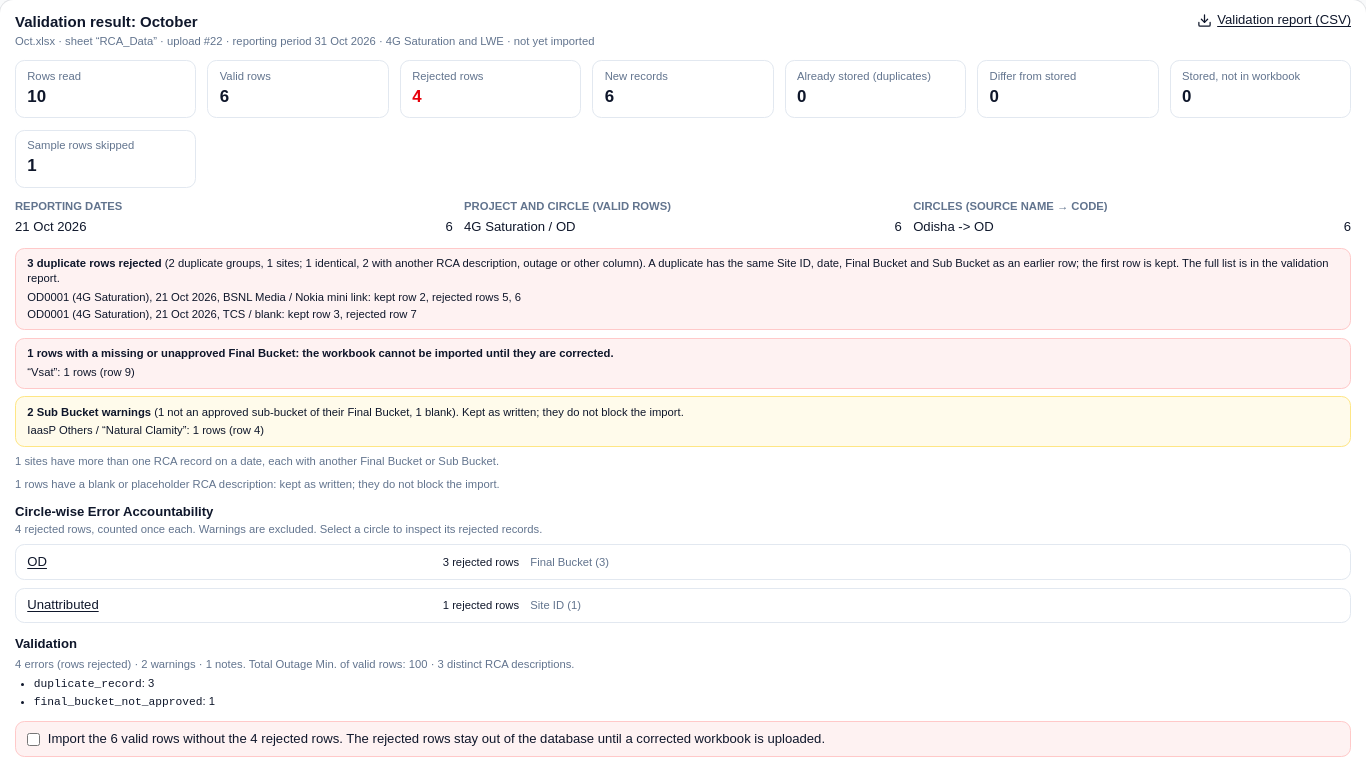
it: RcaImportPreview validation priorities › shows circle totals and opens exact rejected-row details without naming personnel
Check: the text "1" is shown, box [27,156,37,175]
Check: the element labelled "Circle-wise Error Accountability" shows "4 rejected rows, counted once each. Warnings are excluded.", box [15,503,1351,623]
Click the button "OD" at (37, 562), box [27,553,47,572]
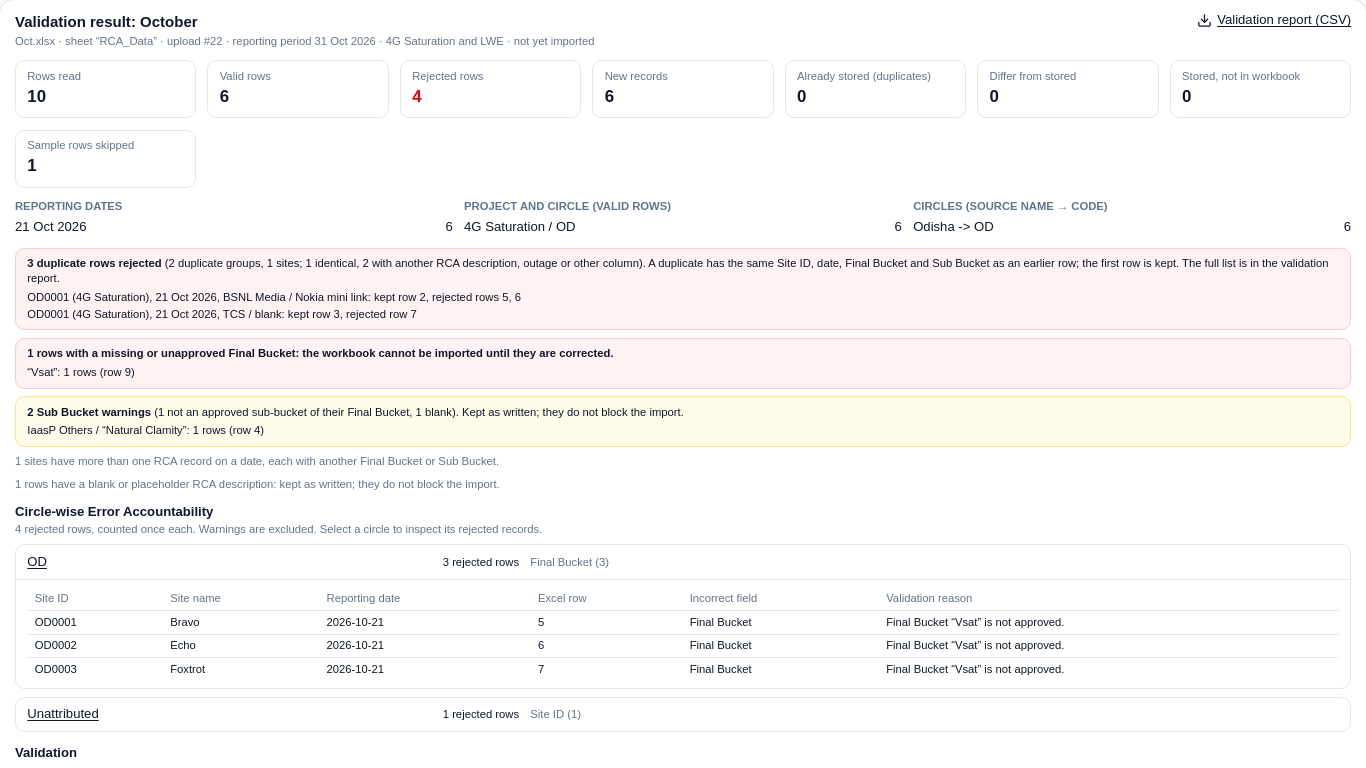
Check: the table named "OD rejected records" shows "OD0001", box [35,616,77,628]
Check: the table named "OD rejected records" shows "Bravo", box [170,616,200,628]
Check: the table named "OD rejected records" shows "2026-10-21", box [326,616,384,628]
